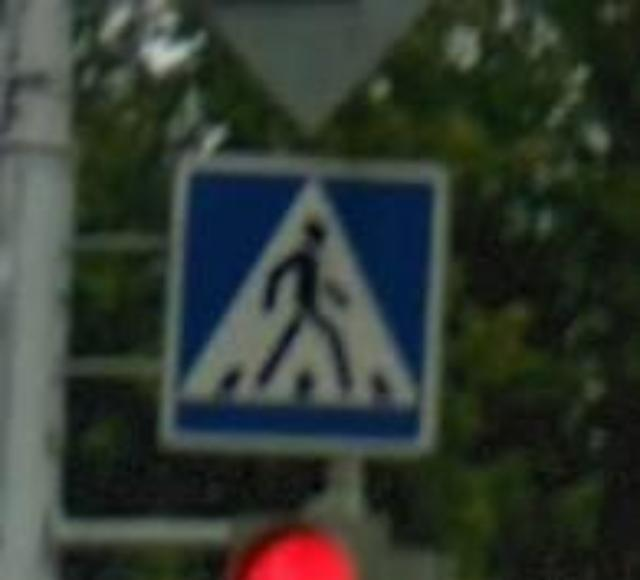crosswalk-sign: (156, 149, 451, 464)
